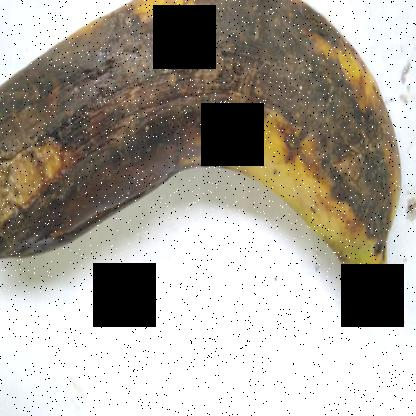rotten: (0, 0, 404, 283)
